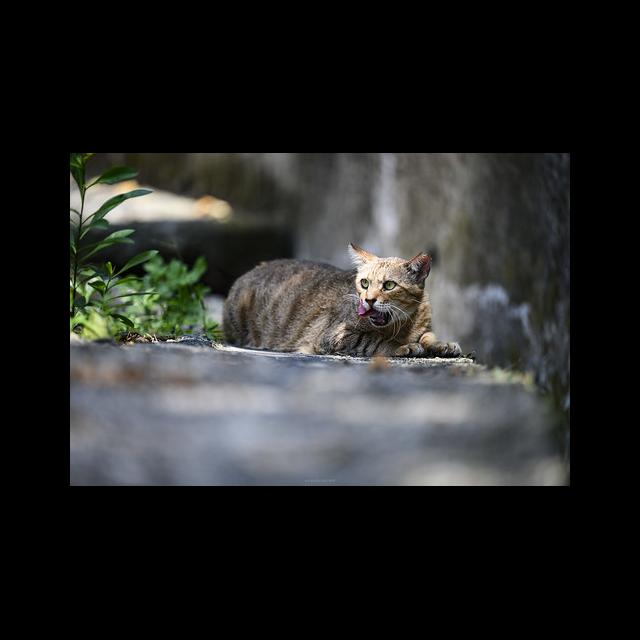animals: (223, 242, 462, 358)
